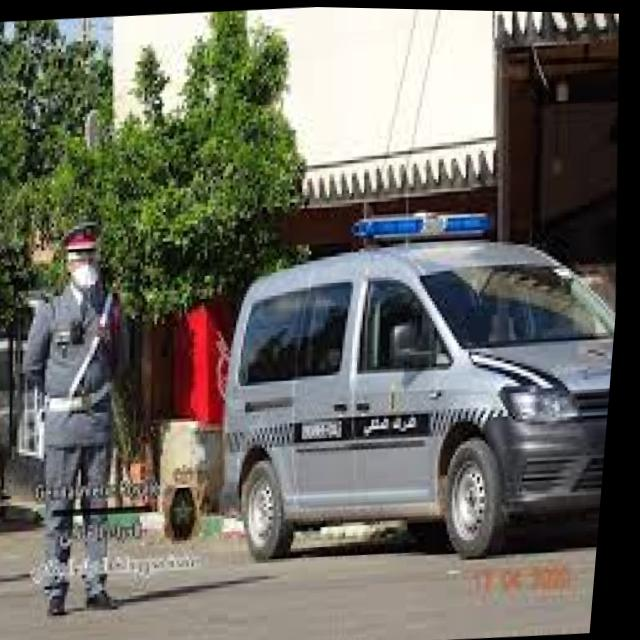gendarme car: (199, 187, 628, 586)
